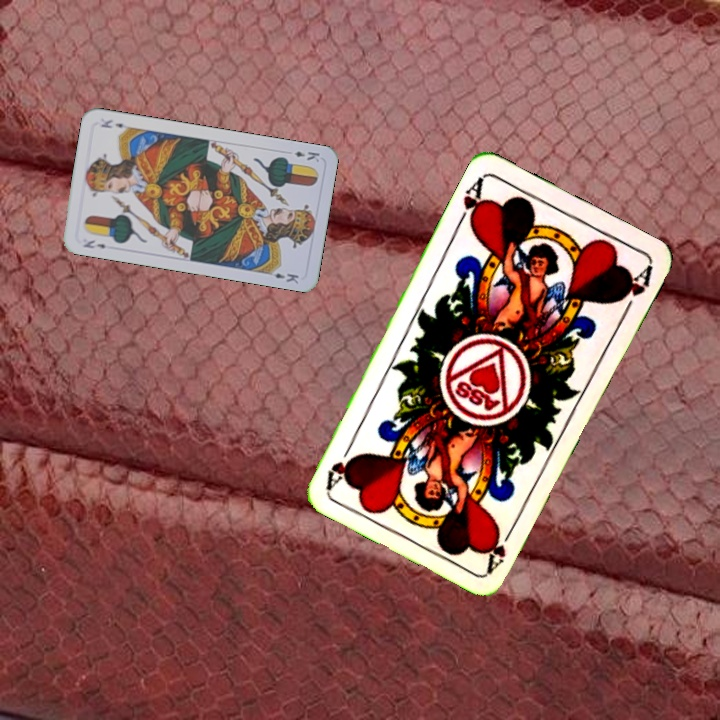EK: (290, 147, 322, 164), (79, 236, 108, 251)
HA: (482, 519, 519, 574), (453, 173, 488, 230)
